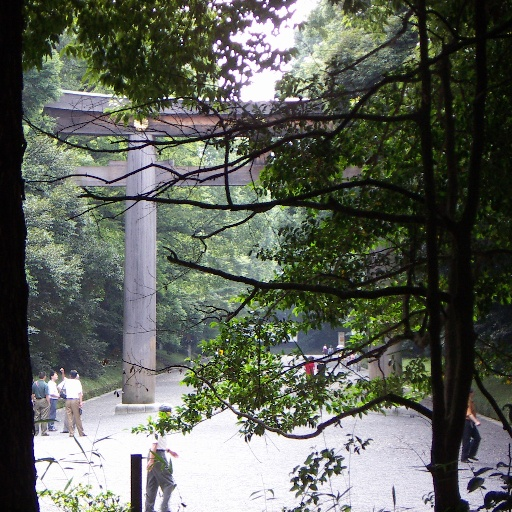hand: (143, 456, 154, 472), (171, 450, 180, 458)
